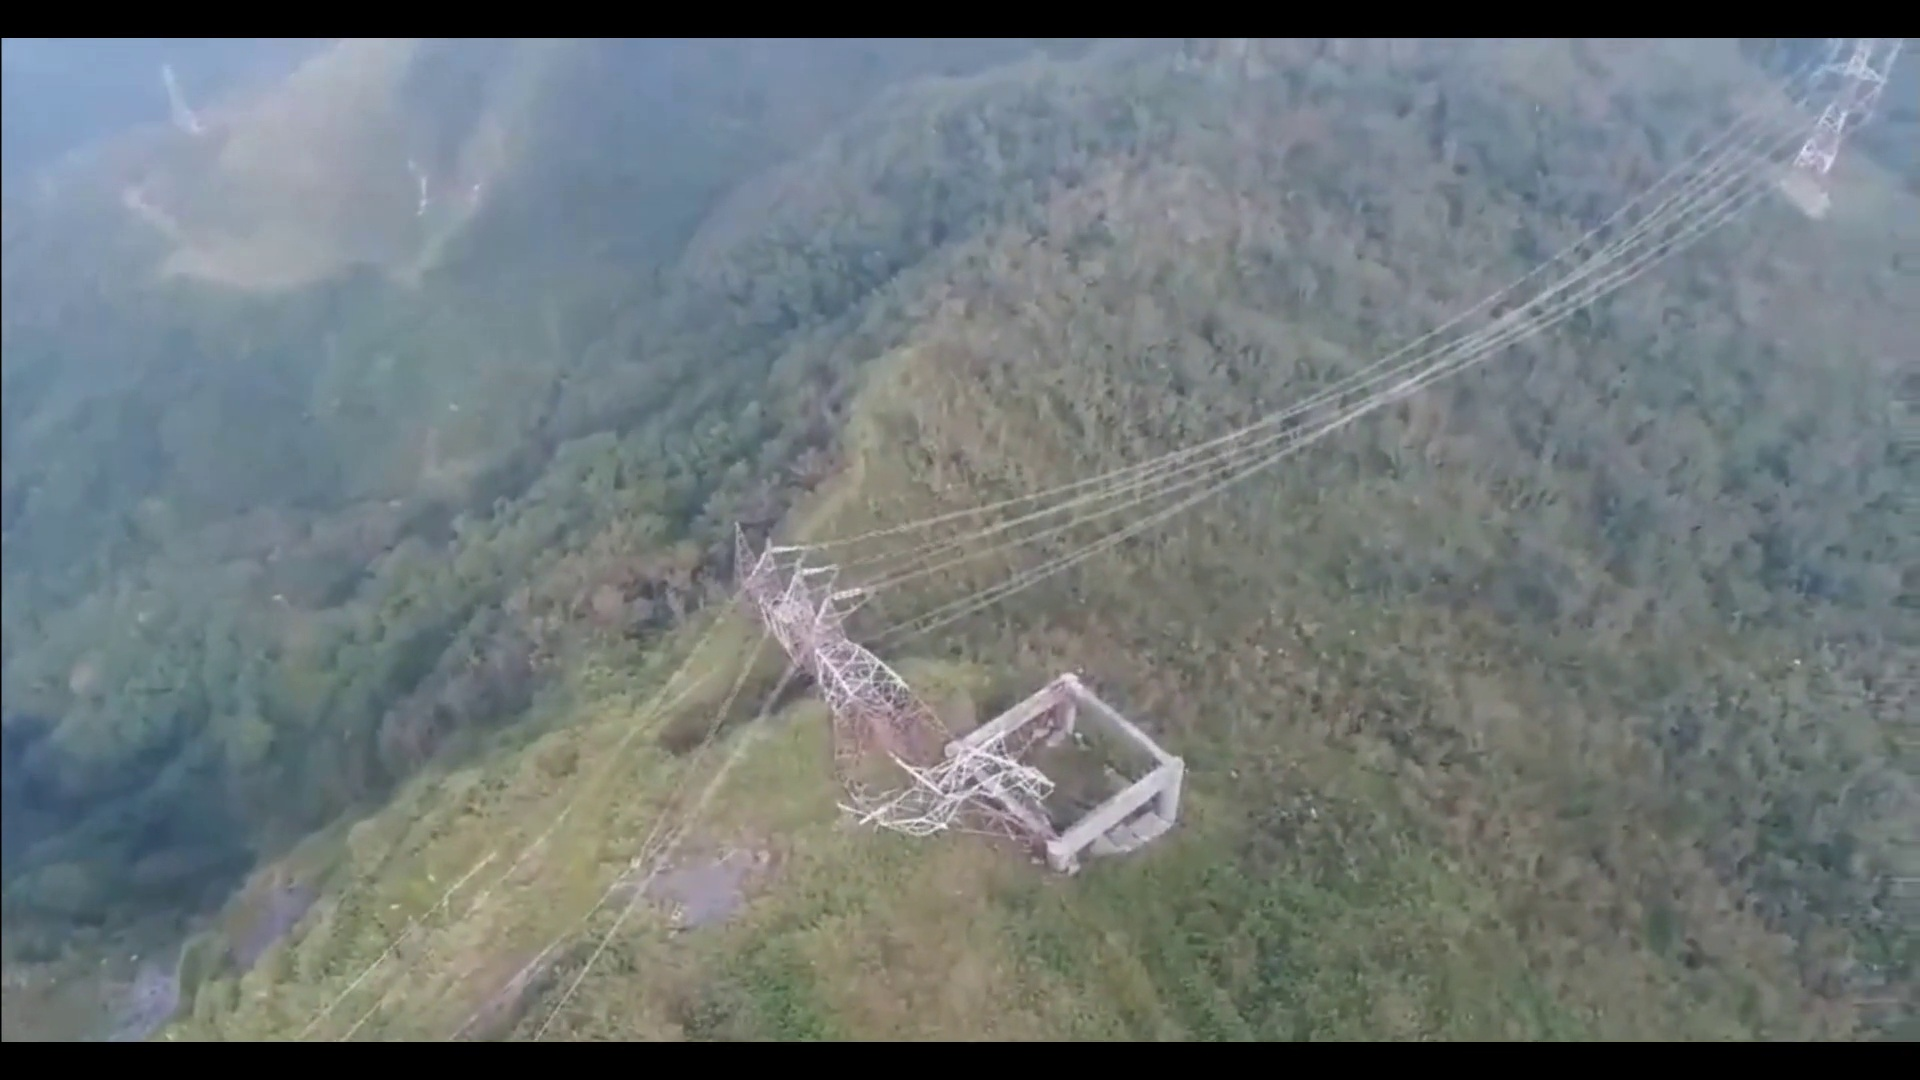tower_down: (725, 516, 1044, 843)
